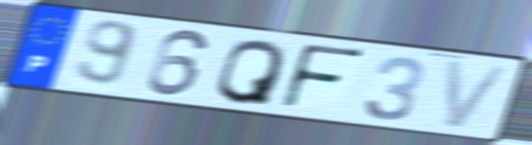3: (363, 54, 426, 121)
6: (145, 28, 212, 99)
9: (74, 18, 142, 92)
F: (277, 41, 369, 113)
Q: (213, 37, 288, 107)
V: (442, 58, 514, 131)
